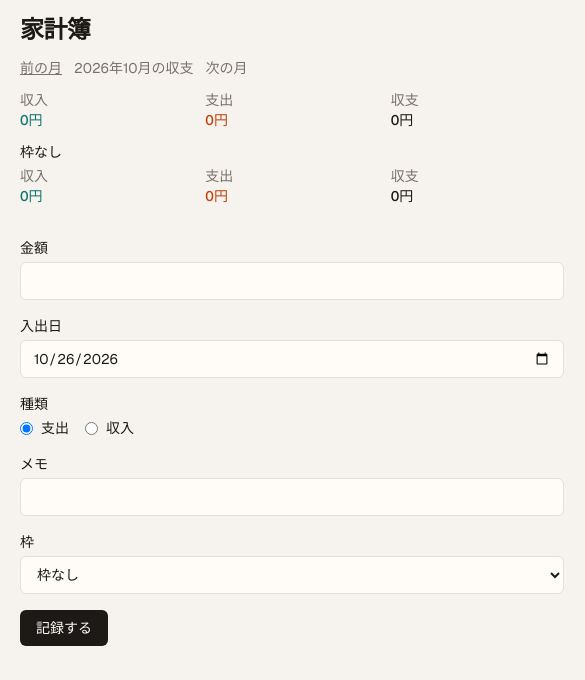
Test: 金額と入出日で支出を記録できる
The width and height of the screenshot is (585, 680).
Type "5000" into the field labelled "金額".
click(292, 281); type("5000")  # box [20,262,564,300]
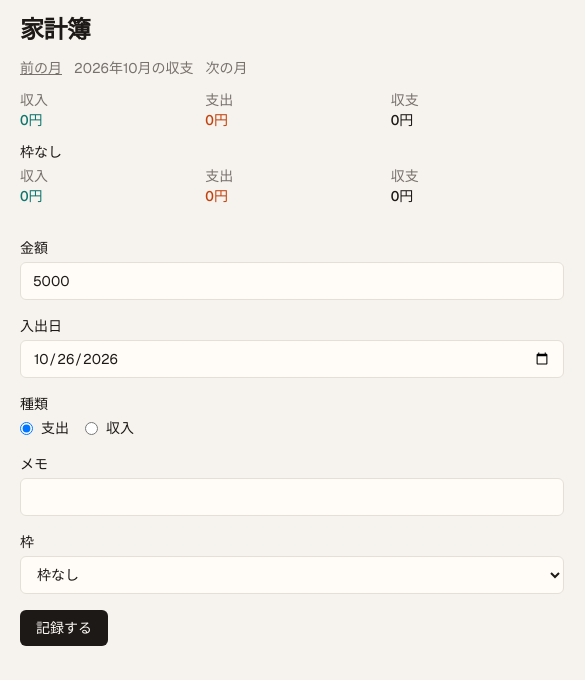
Click the button "記録する".
click(64, 628)  # box [20,610,108,646]
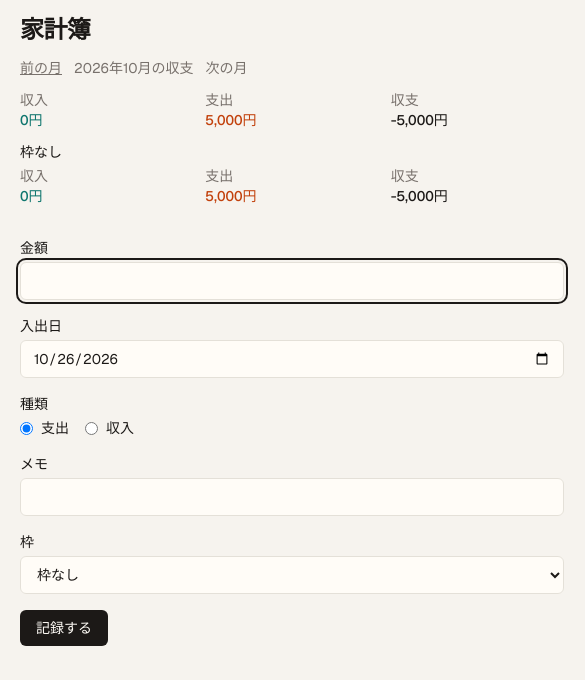
Now the 1st text "5,000円" is shown, box [205,111,257,129]
